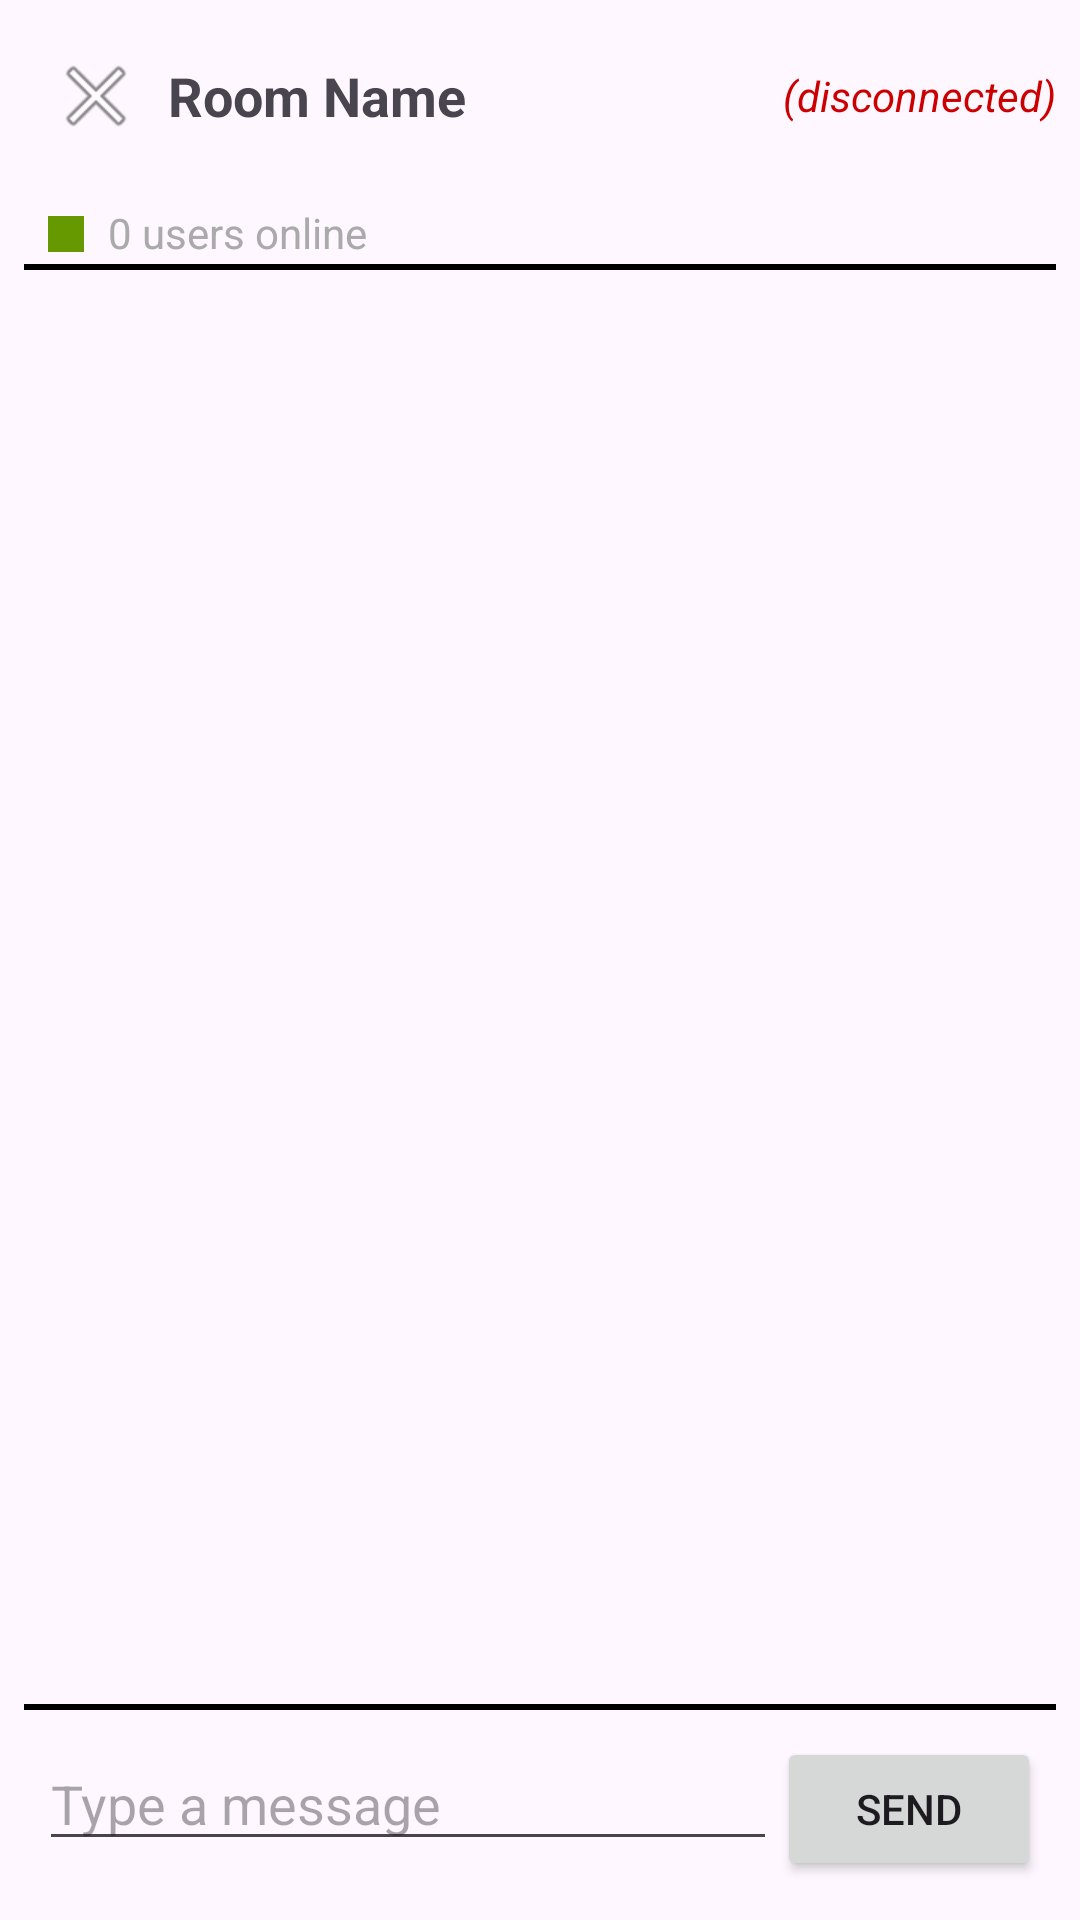

Screen size 1080px x 1920px. Icon name, then its center in pixels as point (x, y):
Exit Chat: point (96, 96)
